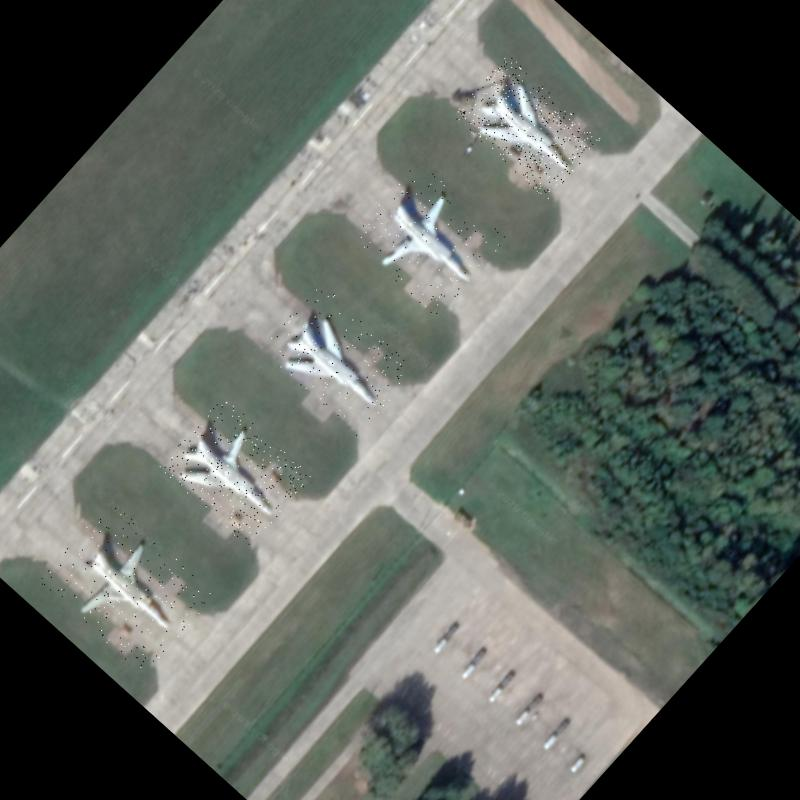A12: (36, 499, 216, 676), (348, 160, 508, 318), (259, 282, 417, 436), (158, 395, 312, 548), (451, 54, 602, 200)
